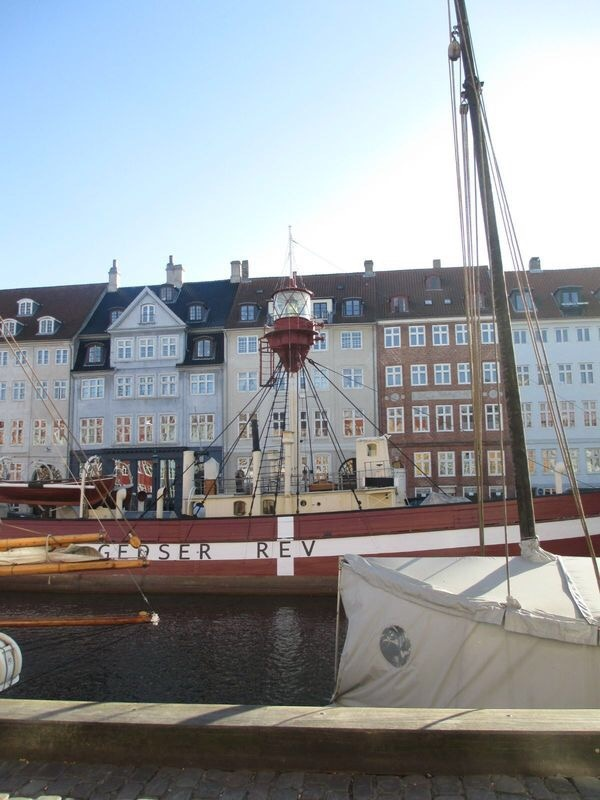text: (255, 541, 270, 559), (271, 541, 286, 559), (287, 541, 302, 559), (303, 541, 318, 559), (92, 545, 107, 561), (108, 545, 123, 561), (124, 545, 139, 561), (140, 545, 155, 561), (156, 545, 171, 561), (172, 545, 187, 561), (188, 545, 203, 561), (204, 545, 219, 561)
